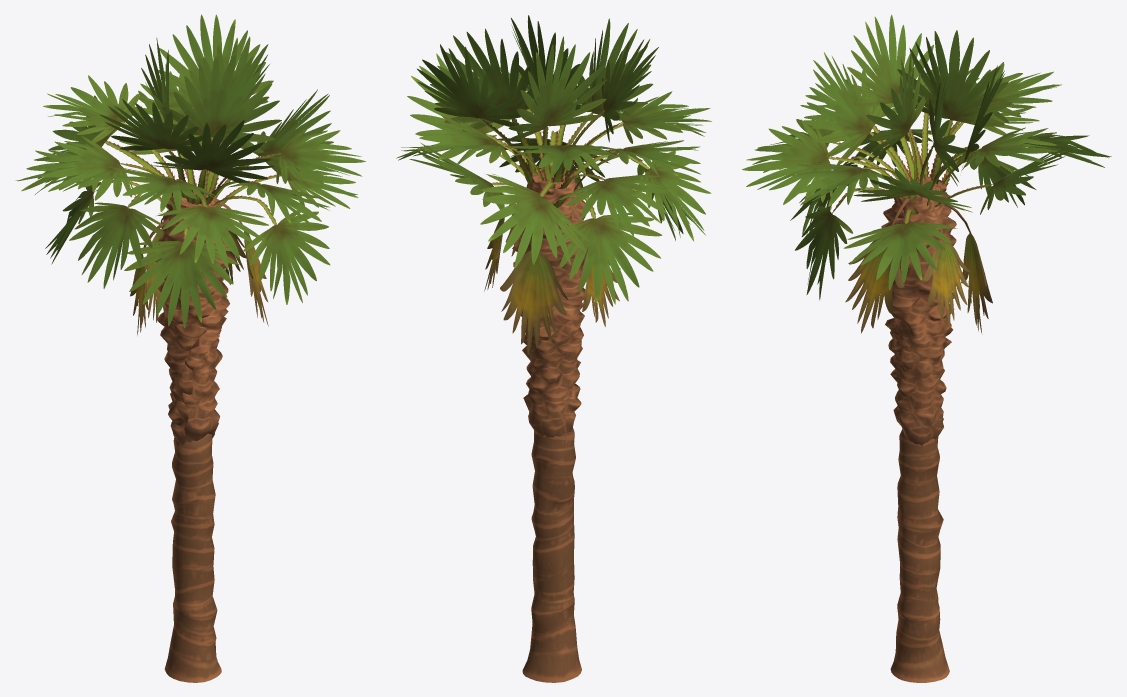
Rendered from test-tree.fbx.
3 views of the same model, side by side, from view 1: azimuth 30°, elevation 25°; view 2: azimuth 150°, elevation 25°; view 3: azimuth 270°, elevation 25° (orthographic). The views are drawn at different scales.
Visible parts, largest first — view 1: SM_Plant_Tropical_Palm_Fan_05_LOD0; view 2: SM_Plant_Tropical_Palm_Fan_05_LOD0; view 3: SM_Plant_Tropical_Palm_Fan_05_LOD0.
Boxes of the visible parts, x1,y1,x2,y2 form: SM_Plant_Tropical_Palm_Fan_05_LOD0: [15, 14, 365, 682]; SM_Plant_Tropical_Palm_Fan_05_LOD0: [396, 15, 711, 682]; SM_Plant_Tropical_Palm_Fan_05_LOD0: [742, 14, 1111, 682].
Size of what is drawn, in the model's own units: 1801 by 3559 by 1895.
